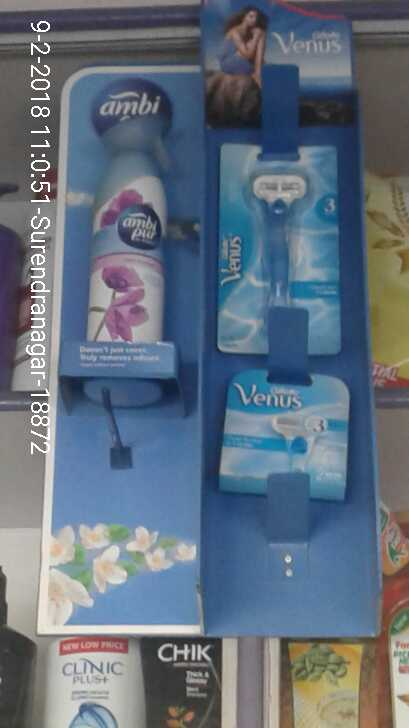beauty: (217, 139, 348, 357), (214, 369, 354, 507)
home: (77, 110, 182, 352)
